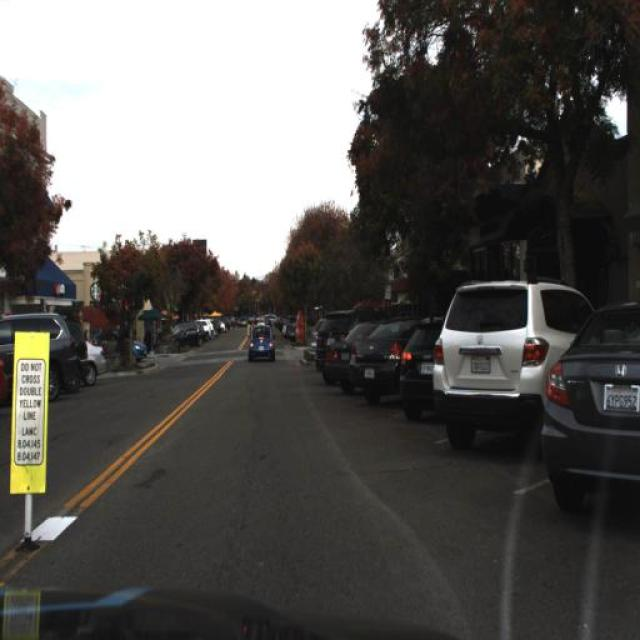car: (541, 300, 640, 526), (432, 274, 556, 454), (1, 308, 78, 402), (396, 312, 442, 422), (346, 316, 400, 404), (54, 311, 88, 398), (319, 324, 352, 397), (66, 318, 90, 388), (80, 338, 108, 393), (246, 319, 278, 365), (172, 318, 206, 350), (120, 328, 150, 362)
